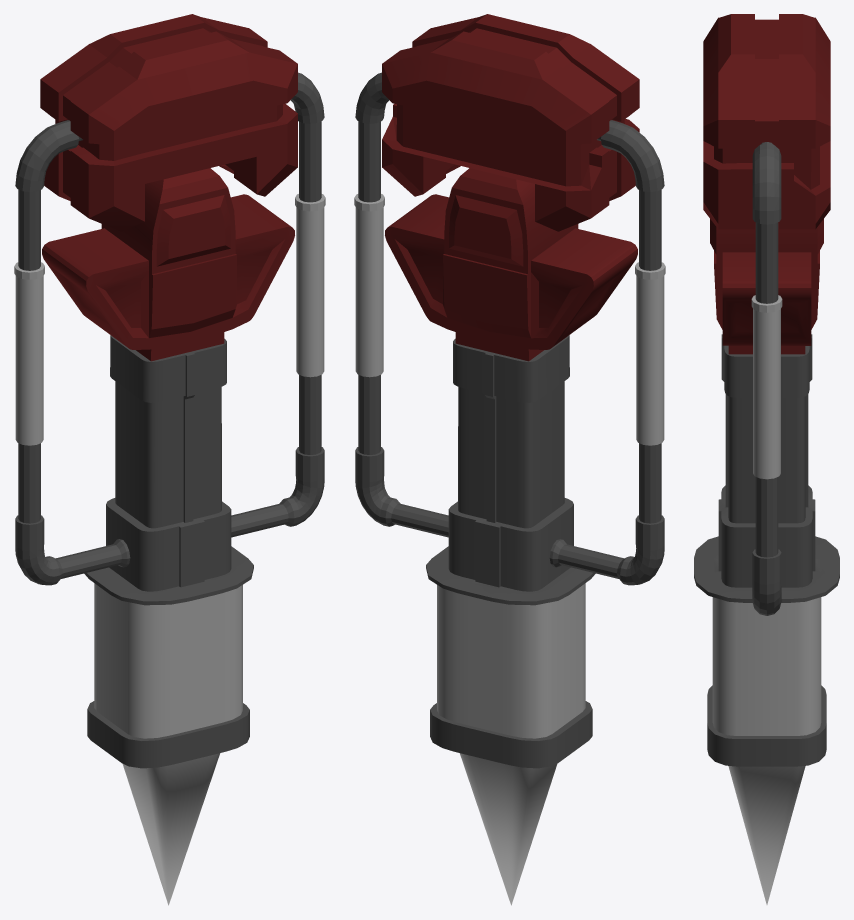
Rendered from Pile_driver Model.fbx.
3 views of the same model, side by side, from view 1: azimuth 30°, elevation 25°; view 2: azimuth 150°, elevation 25°; view 3: azimuth 270°, elevation 25° (orthographic).
Visible parts, largest first — view 1: Box001, Object003; view 2: Box001, Object003; view 3: Box001, Object003.
Boxes of the visible parts, box(x1,y1,x2,y2) form: Box001: box(40, 14, 297, 905); Object003: box(14, 72, 325, 585); Box001: box(382, 14, 639, 905); Object003: box(354, 72, 665, 585); Box001: box(694, 14, 839, 904); Object003: box(751, 142, 782, 615).
Bounding box in the file's own units: 38.33 × 104 × 15.68.
2 materials, 2 textured.
